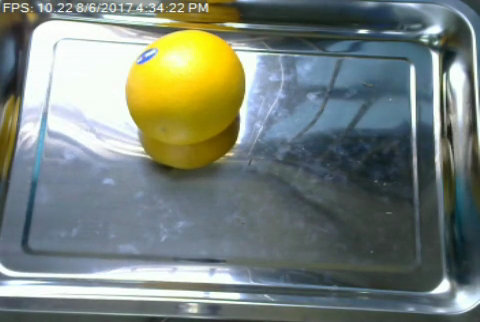Orange: (124, 31, 245, 146)
